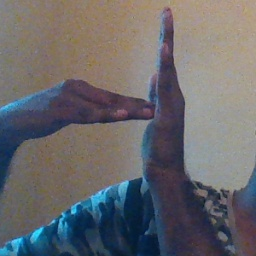Z: (85, 5, 204, 189)
